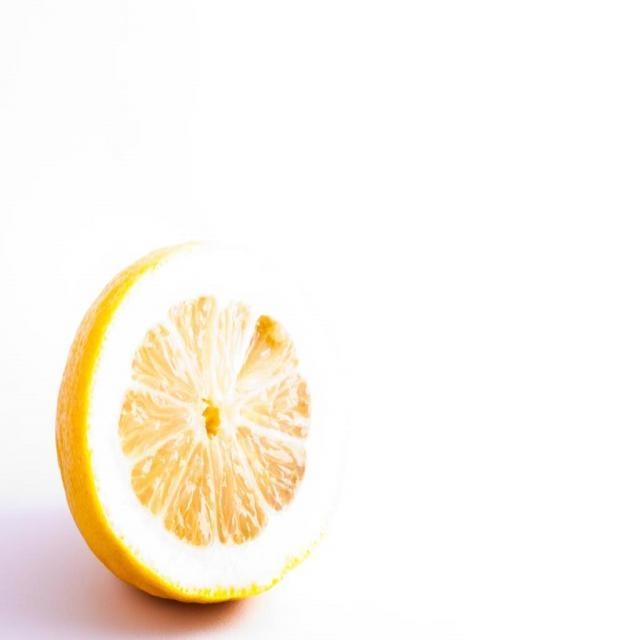Orange: (54, 238, 342, 604)
